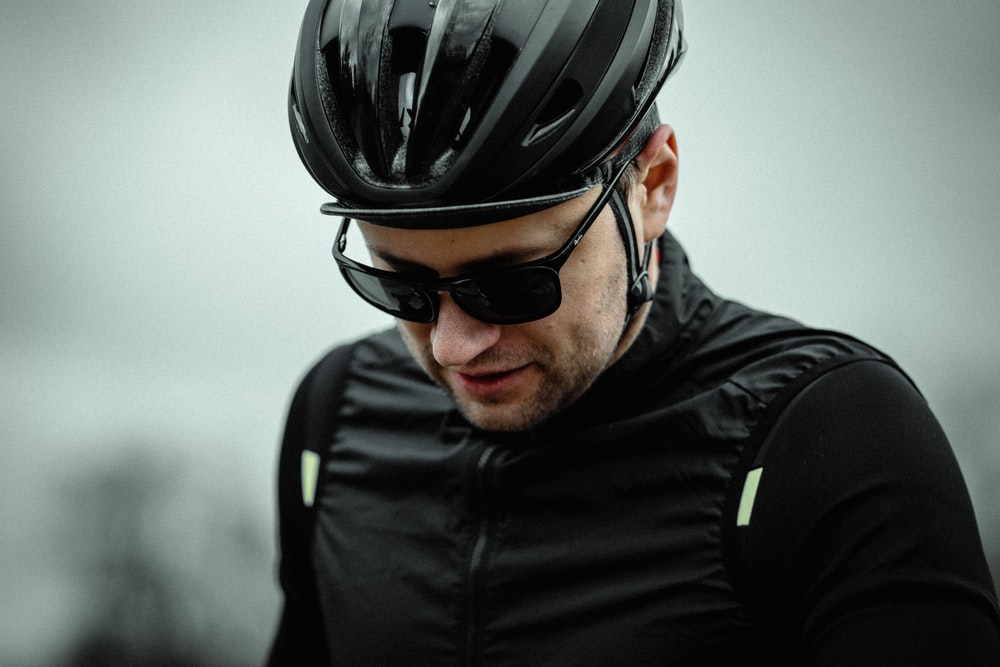helmet: (287, 1, 685, 433)
